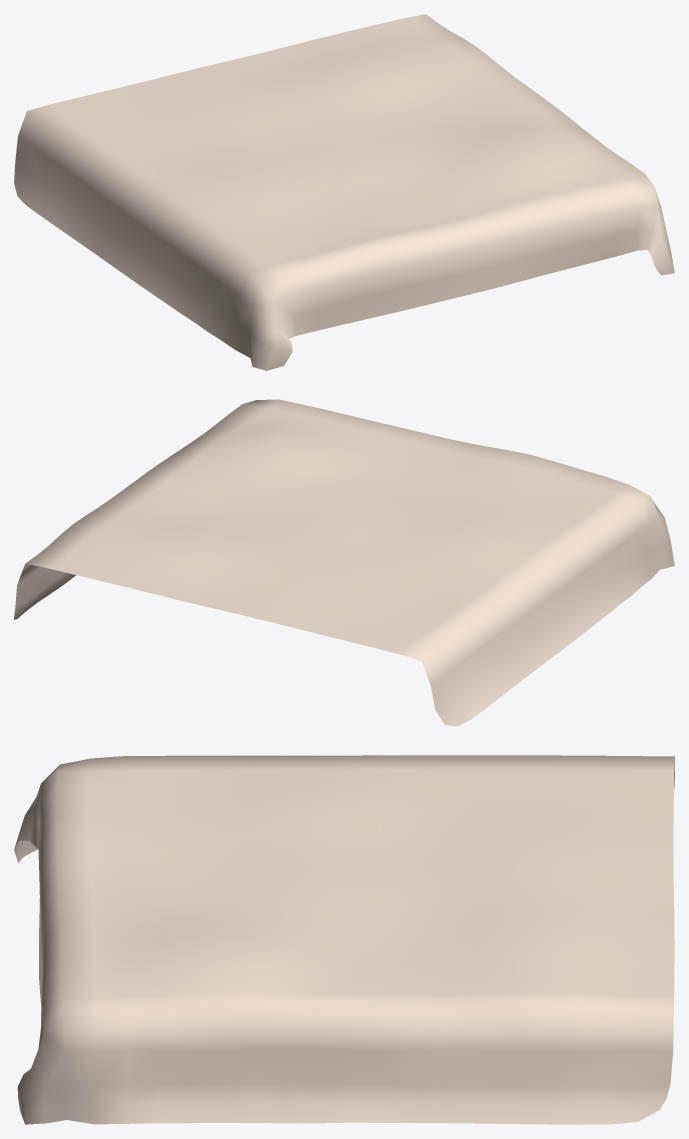
File: Blanket.glb
The picture shows the model from 3 angles, top to bottom: view 1: azimuth 30°, elevation 25°; view 2: azimuth 150°, elevation 25°; view 3: azimuth 270°, elevation 25°; orthographic projection. The views are drawn at different scales.
Visible parts, largest first — view 1: Blanket; view 2: Blanket; view 3: Blanket.
Boxes of the visible parts, bbox=[...] form: Blanket: bbox=[14, 14, 674, 370]; Blanket: bbox=[14, 399, 674, 726]; Blanket: bbox=[14, 755, 674, 1124].
Size of the model in its own units: 2.17 by 0.4266 by 2.1.
